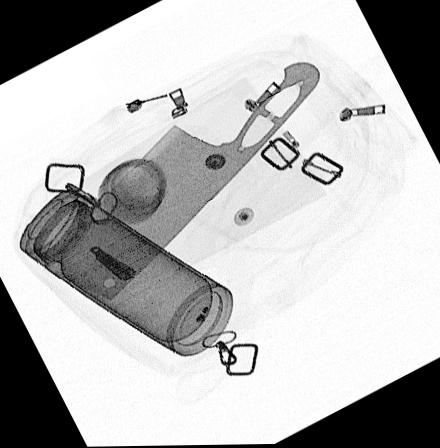Knife: (42, 61, 323, 303)
